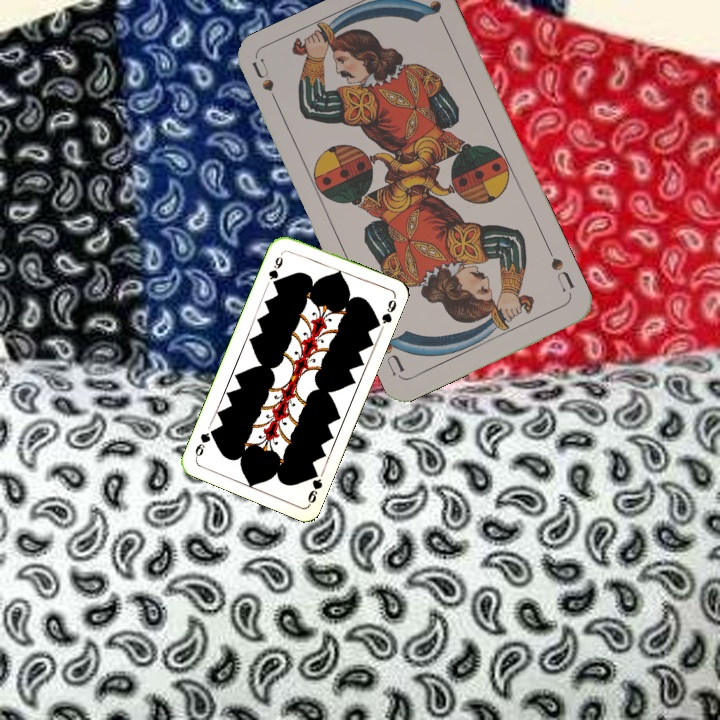G9: (304, 466, 325, 507), (264, 252, 286, 288)
SU: (249, 56, 284, 114), (543, 243, 578, 295)
